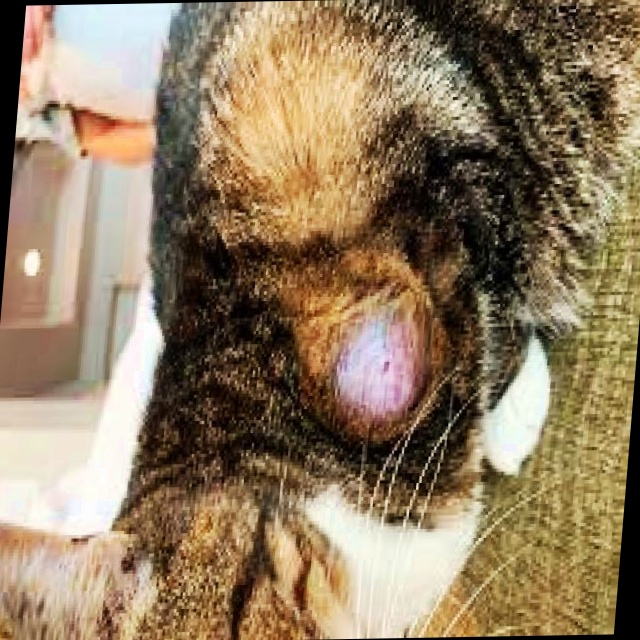lump_and_bump: (333, 308, 429, 429)
